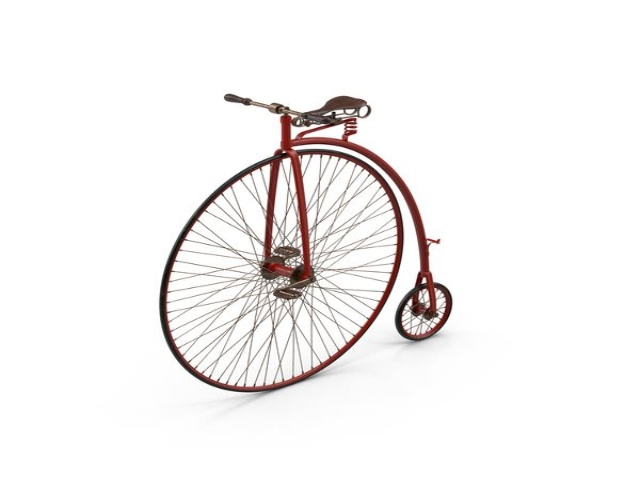bike: (145, 79, 478, 396)
